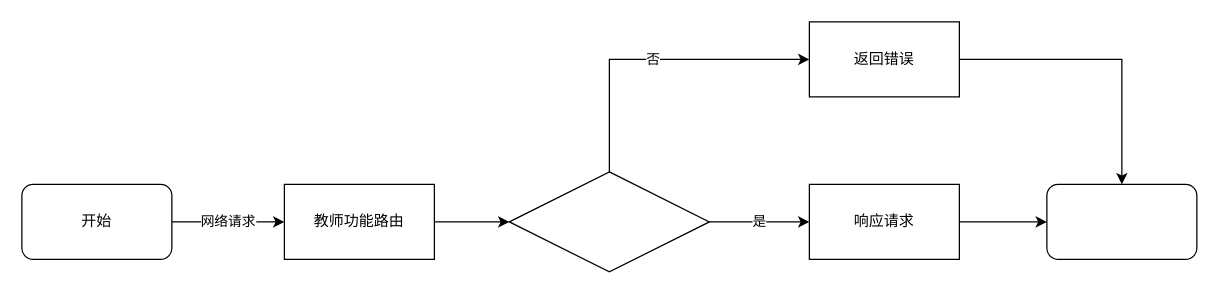
Image size: 1219x294. Some labels were removed from this diagram. The shapes that lost their labels are listed below. From the top down, each one's centre as x and y in pixels, then its label:
At (608,221): "是否有教师权限".
At (1121,221): "结束".
